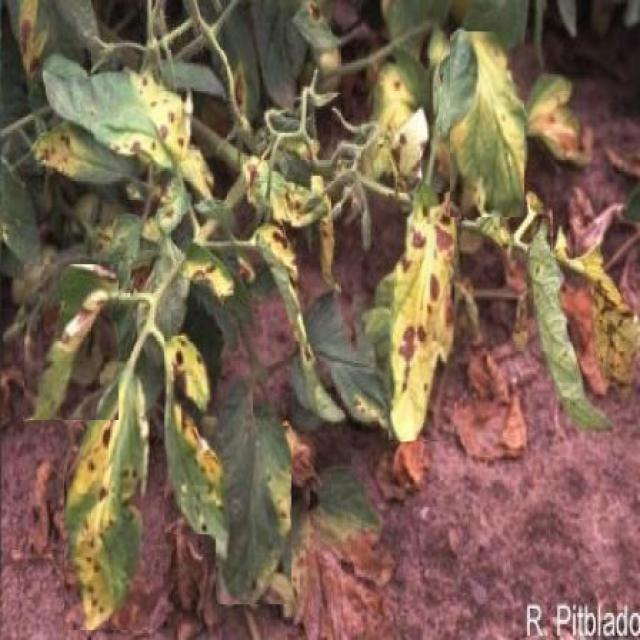Early Blight: (46, 50, 227, 214), (65, 359, 151, 630), (253, 220, 346, 426), (216, 376, 291, 604), (389, 194, 454, 442), (25, 264, 119, 420), (451, 32, 525, 217), (165, 336, 234, 534)
